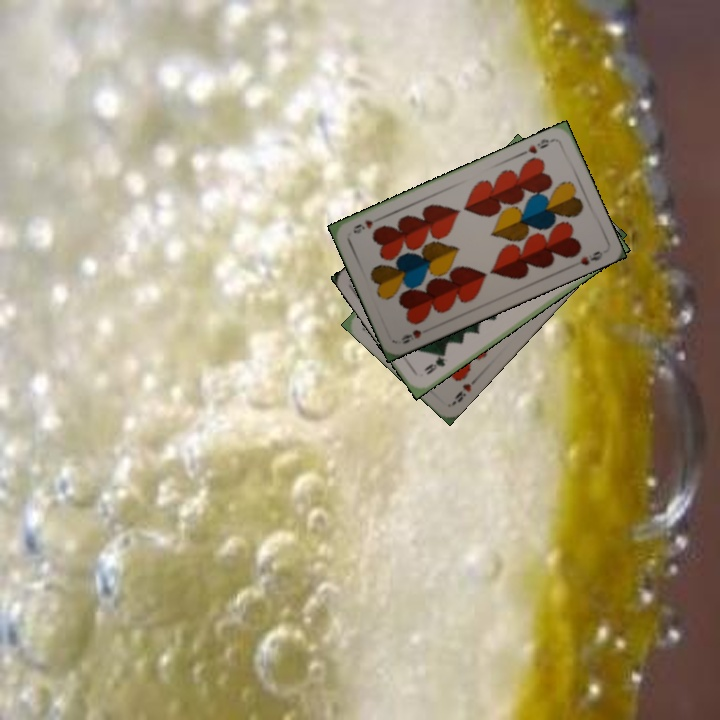G9: (419, 350, 448, 377)
H9: (448, 373, 480, 407), (524, 134, 557, 156), (397, 325, 424, 346)
